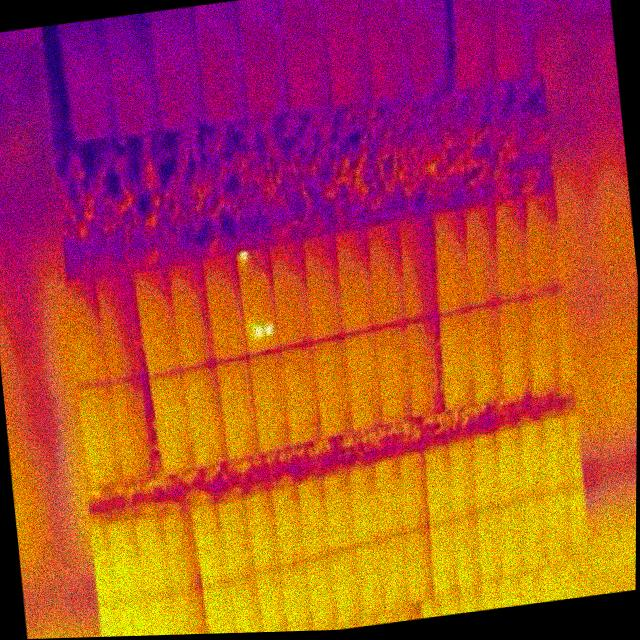Hotspot: (230, 242, 285, 358), (339, 325, 387, 432)
Normal: (425, 204, 476, 316), (399, 313, 448, 421)
Shadow: (50, 17, 123, 148), (140, 5, 210, 133), (229, 0, 292, 125), (357, 0, 416, 109), (437, 0, 502, 94)
